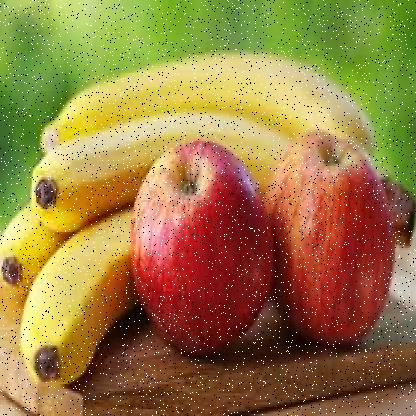apple: (253, 134, 395, 341), (140, 138, 278, 338)
